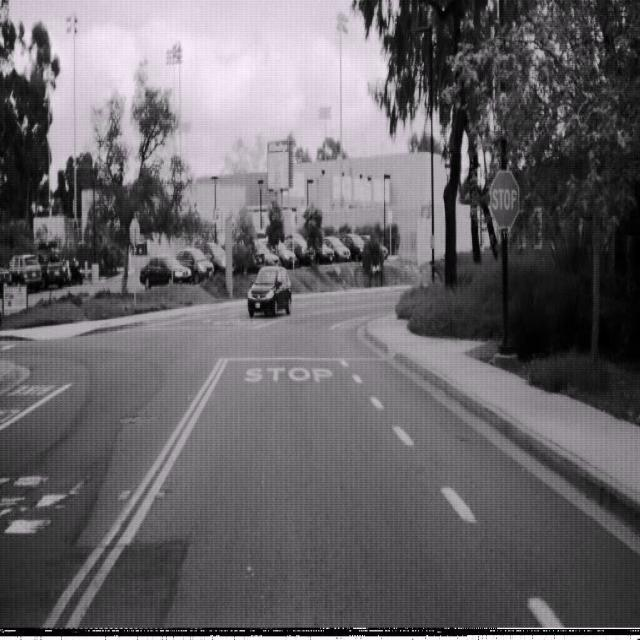stop_sign: (489, 169, 520, 229)
